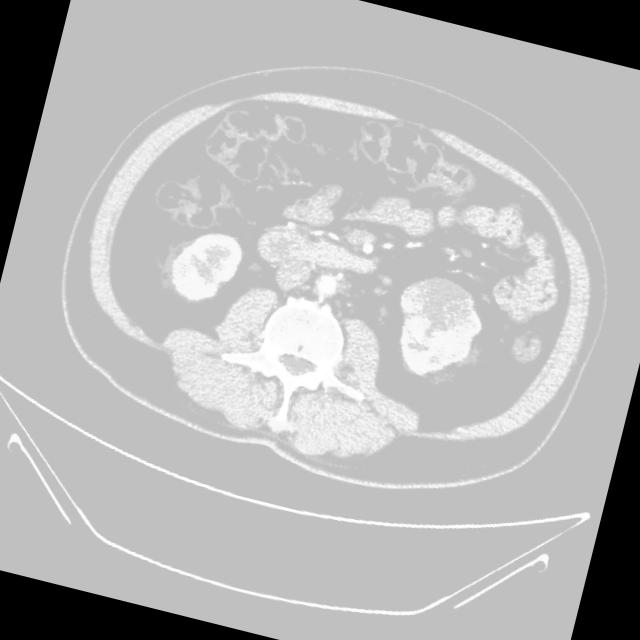TUMOR: (245, 163, 604, 425)
